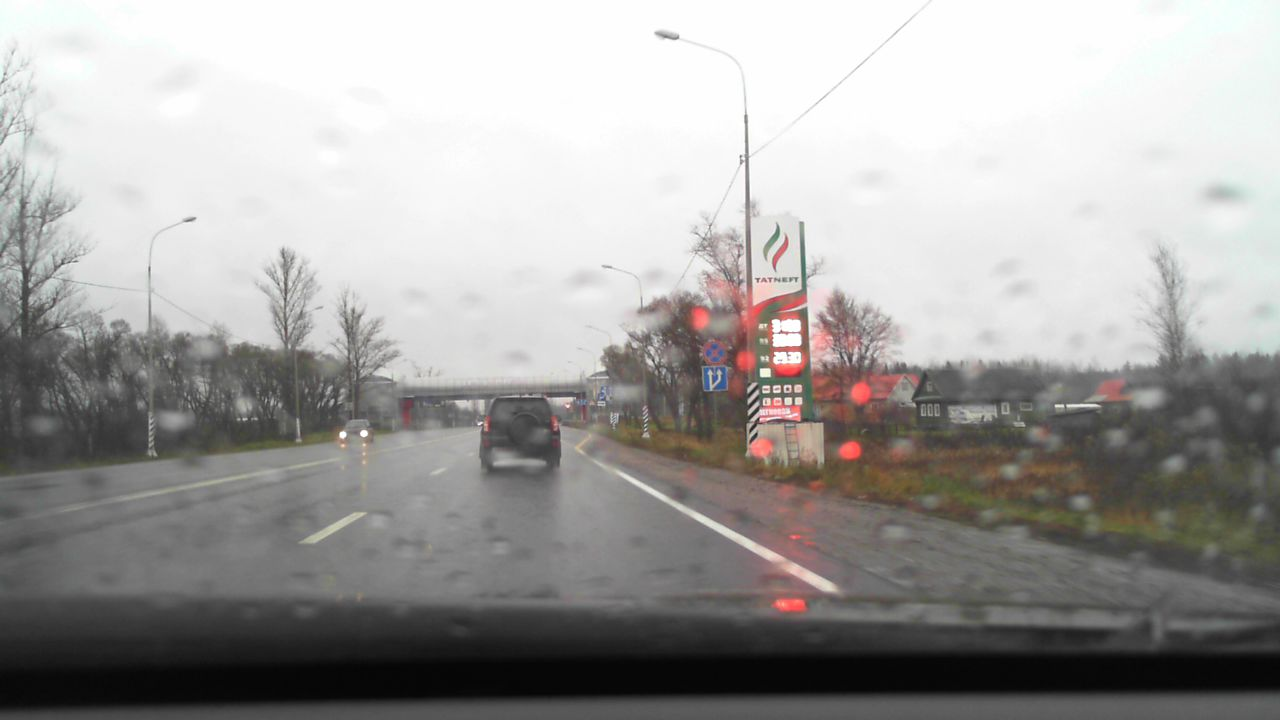No Parking: (703, 340, 728, 365)
